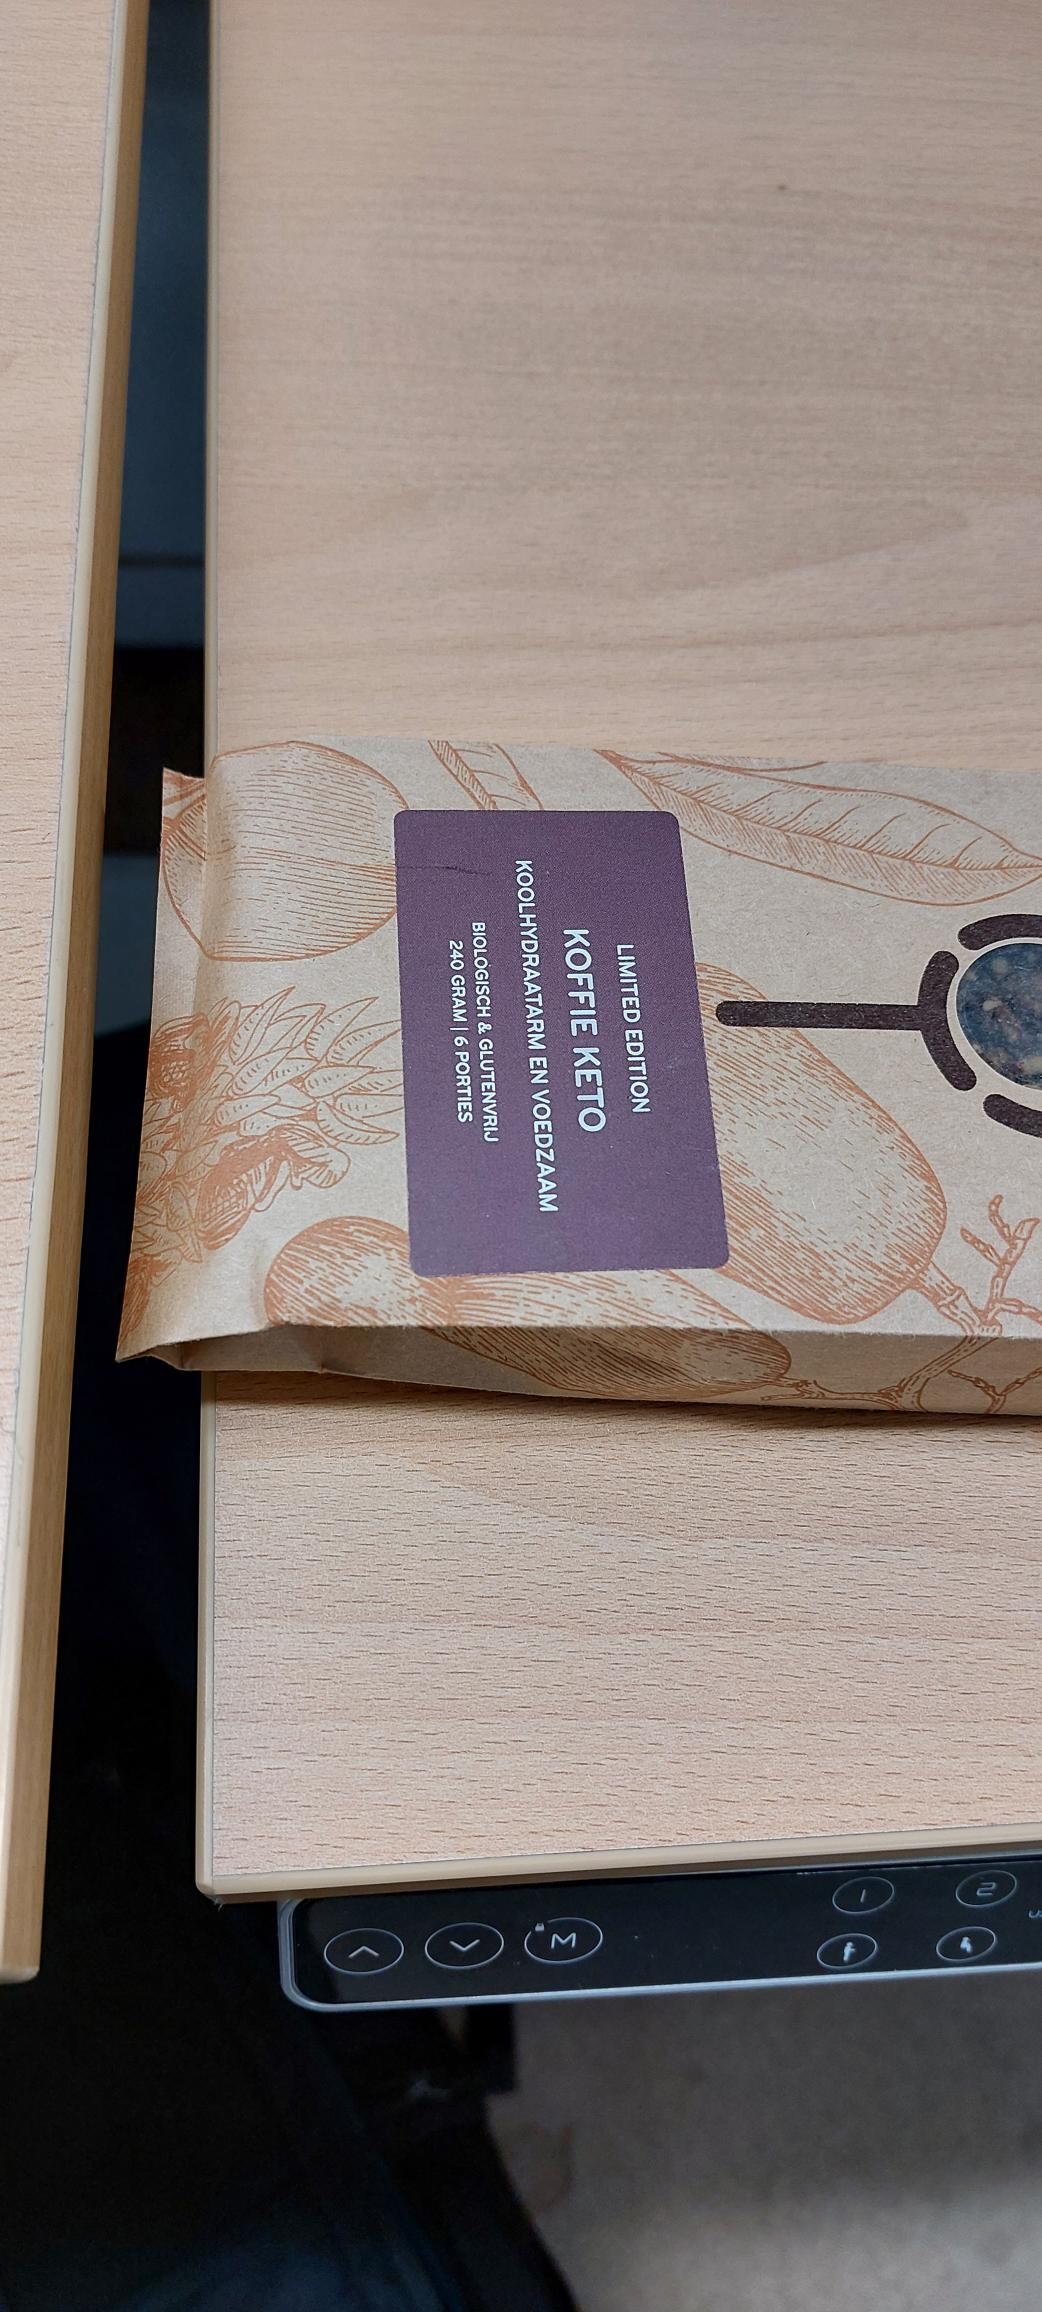KoffieKeto: (382, 799, 740, 1287)
